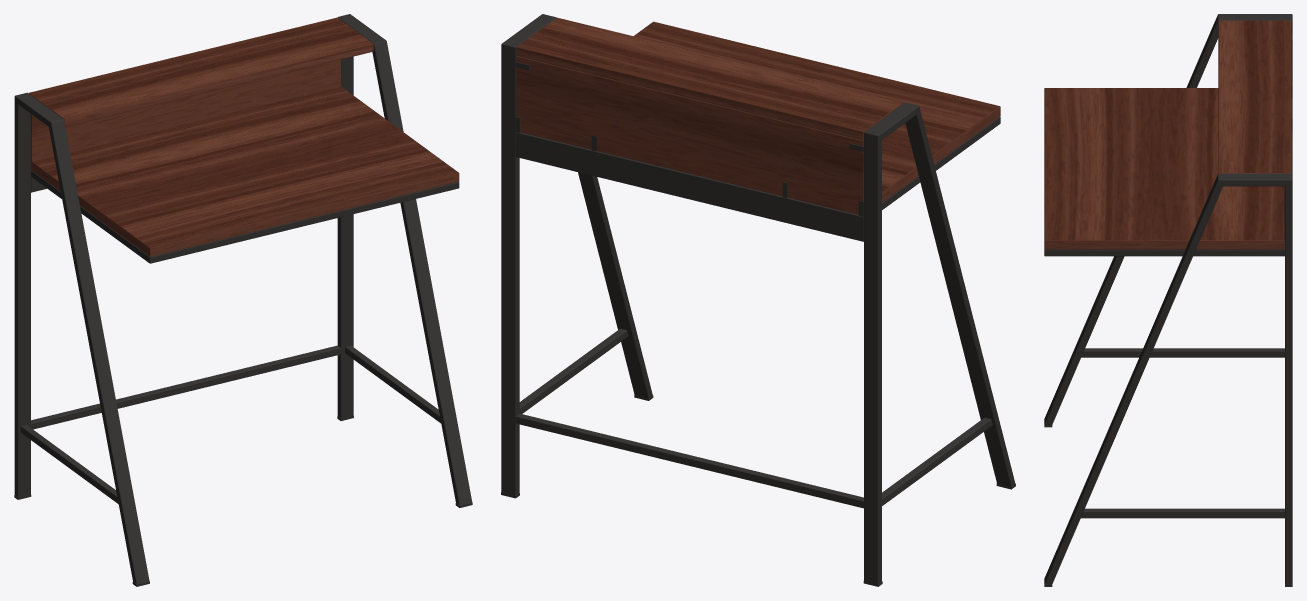
3 views of the same model, side by side, from view 1: azimuth 30°, elevation 25°; view 2: azimuth 150°, elevation 25°; view 3: azimuth 270°, elevation 25° (orthographic). The views are drawn at different scales.
Visible parts, largest first — view 1: C-skpBF5; view 2: C-skpBF5; view 3: C-skpBF5.
Boxes of the visible parts, left/top/right/bottom form: C-skpBF5: left=14, top=14, right=472, bottom=586; C-skpBF5: left=501, top=14, right=1015, bottom=586; C-skpBF5: left=1044, top=14, right=1292, bottom=586.
Bounding box in the file's own units: 0.8127 × 0.9287 × 0.5132.
Materials: 2 (1 with a texture image).
